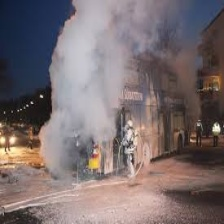smoke: (43, 1, 131, 180)
